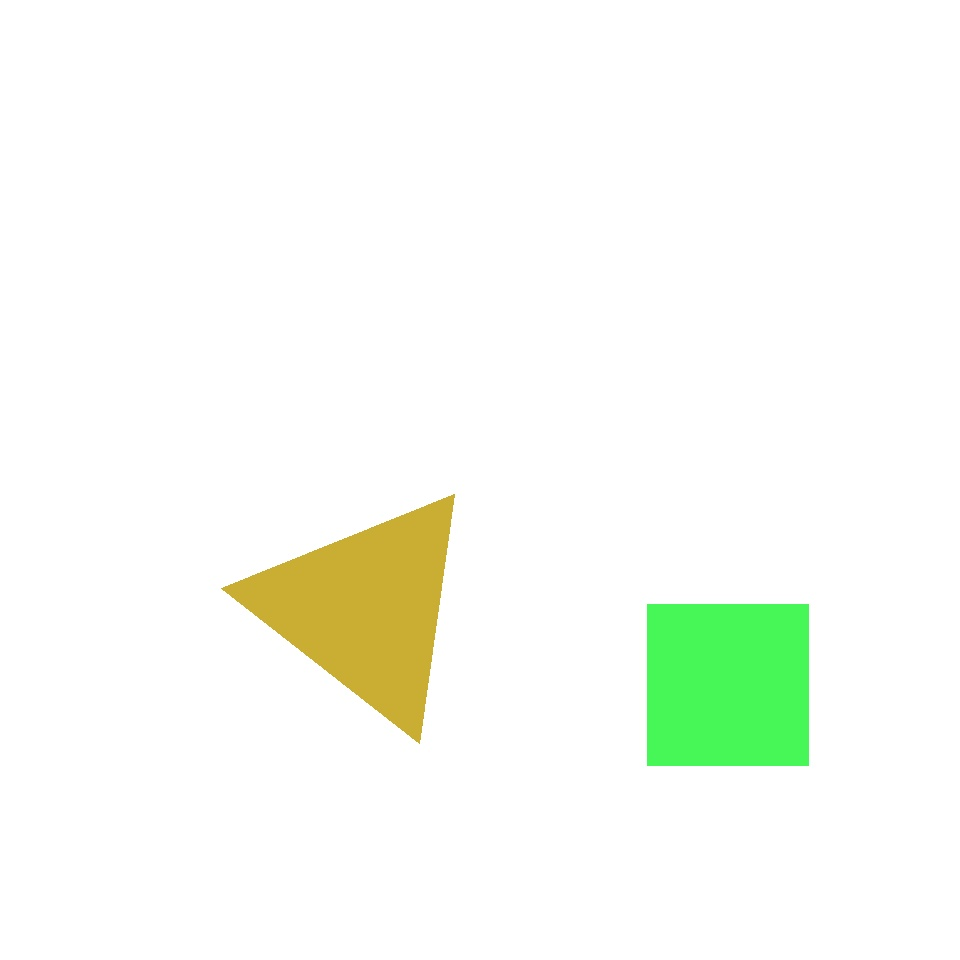circle: (248, 484, 482, 734), (676, 52, 839, 198)
square: (648, 604, 808, 766)
triangle: (414, 340, 676, 604)
